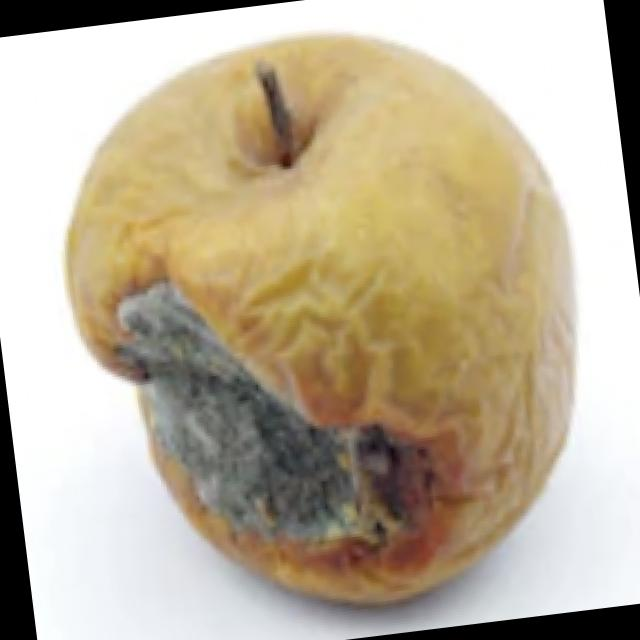rotten_apple: (46, 5, 612, 638)
